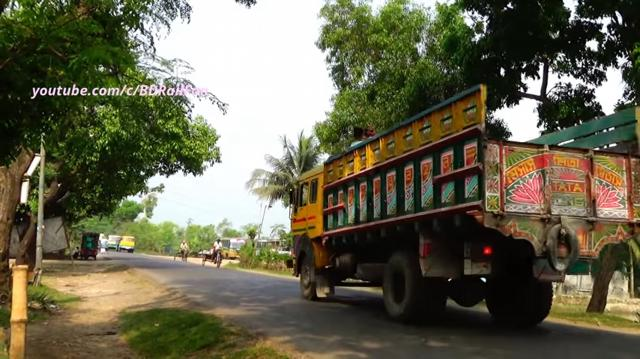bus: (223, 236, 245, 261)
truck: (278, 112, 640, 327), (116, 234, 139, 253)
